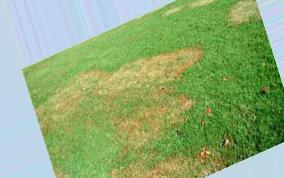patch: (96, 59, 195, 105), (110, 109, 179, 168), (50, 87, 92, 133), (227, 5, 260, 33)
